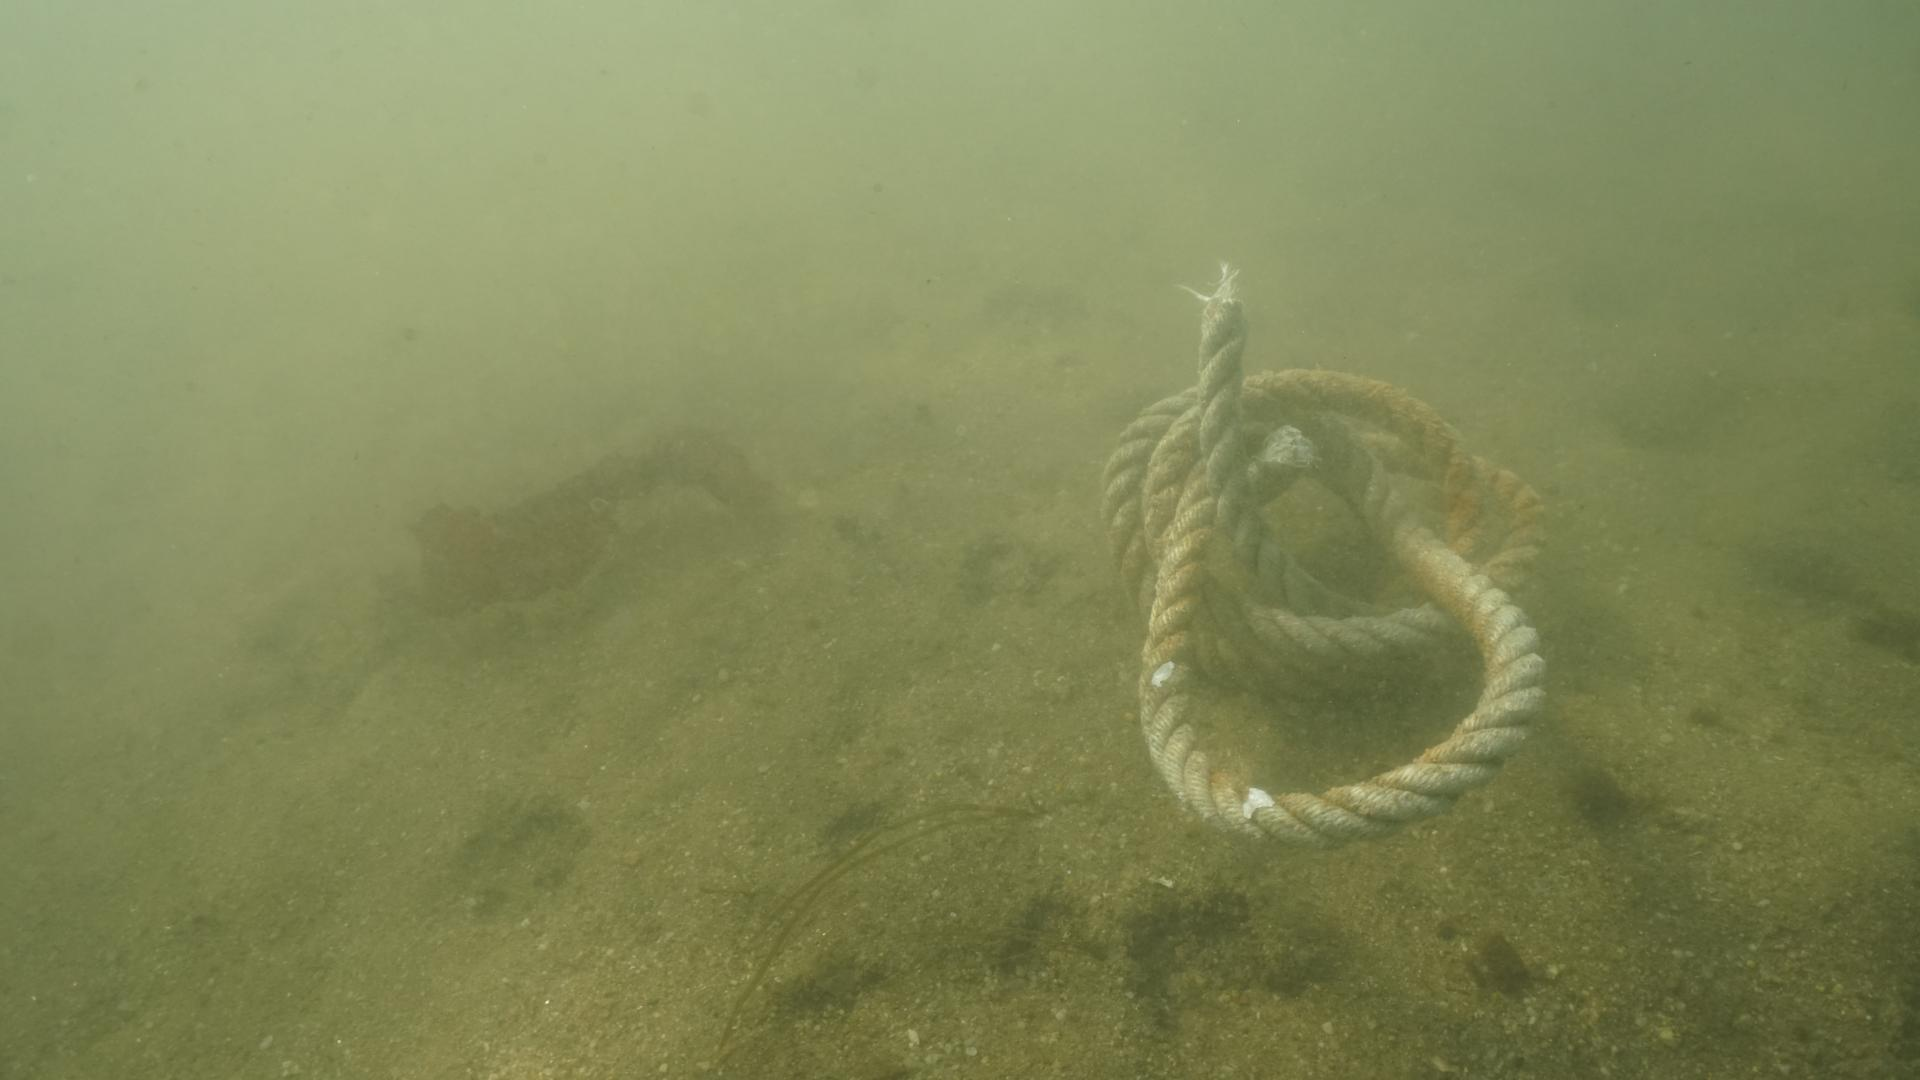bundle of ropes: (1079, 301, 1549, 851)
